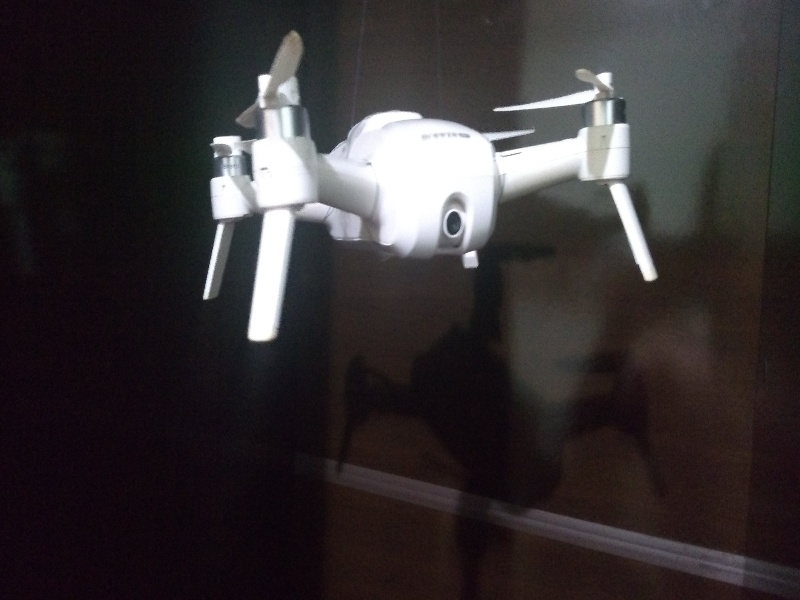drone: (173, 24, 670, 351)
